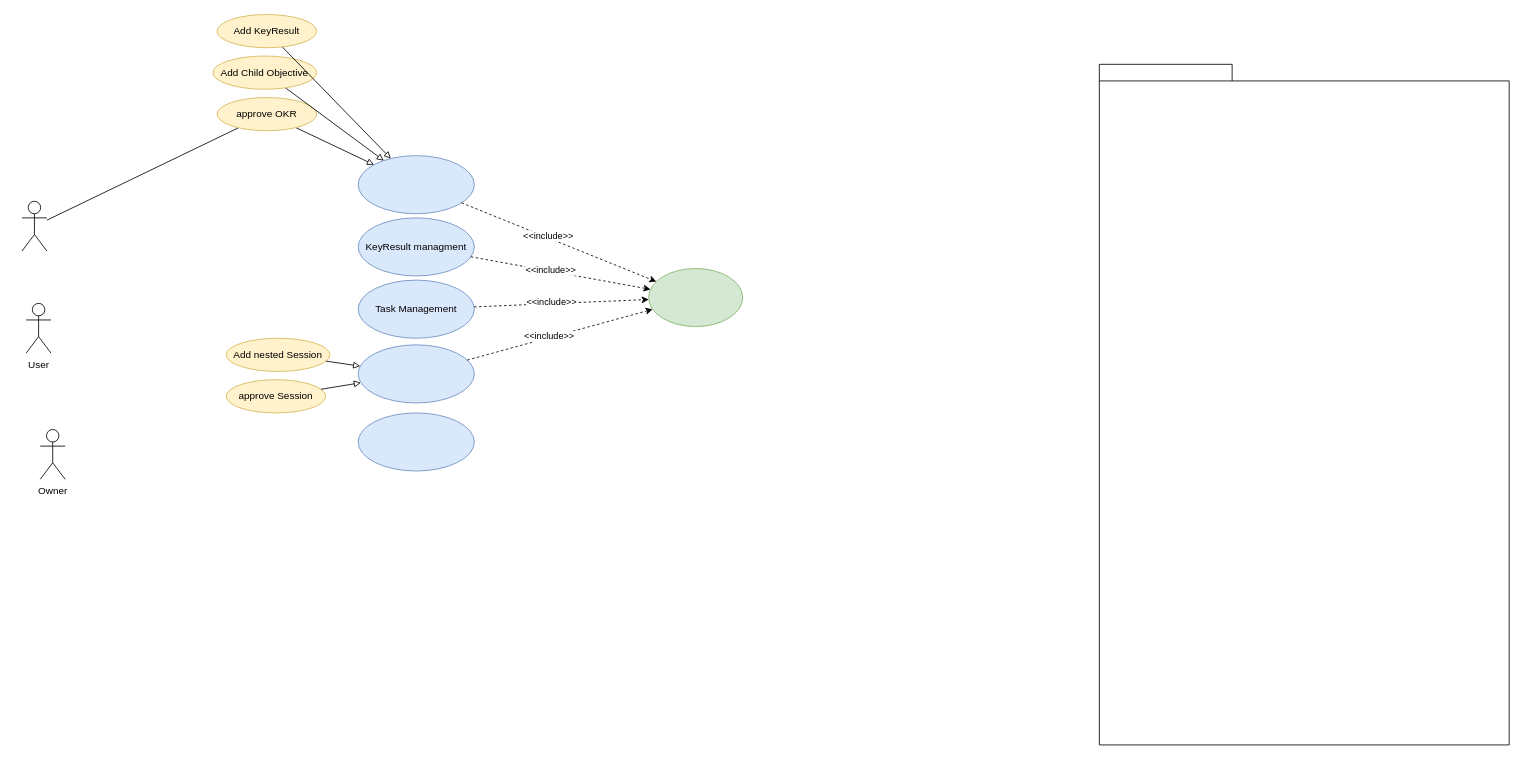
Some shapes in this 1524 by 759 pixel diagram are drawn without their labels. Each missing label, with the centre of its shape:
"Approver" belongs at point 34,225.
"Authentification" belongs at point 695,297.
"Metrics & parameters Management" belongs at point 415,441.
"Objective management" belongs at point 415,184.
"sessions management" belongs at point 415,373.
